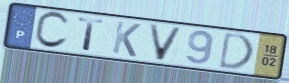9: (184, 29, 216, 67)
C: (32, 10, 72, 51)
D: (216, 30, 256, 71)
K: (110, 19, 143, 59)
T: (77, 16, 106, 53)
V: (146, 22, 186, 62)
